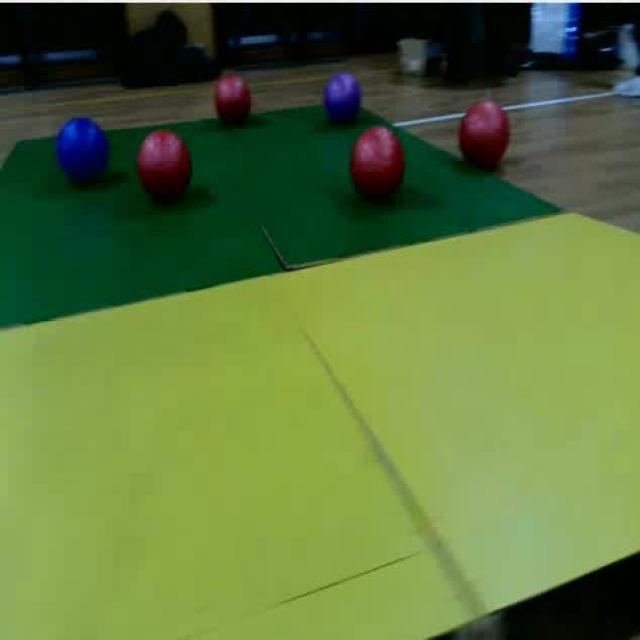blue_ball: (54, 114, 116, 194)
purple_ball: (323, 71, 360, 124)
red_ball: (345, 119, 407, 209), (137, 125, 195, 213), (458, 100, 514, 169), (215, 68, 249, 128)
